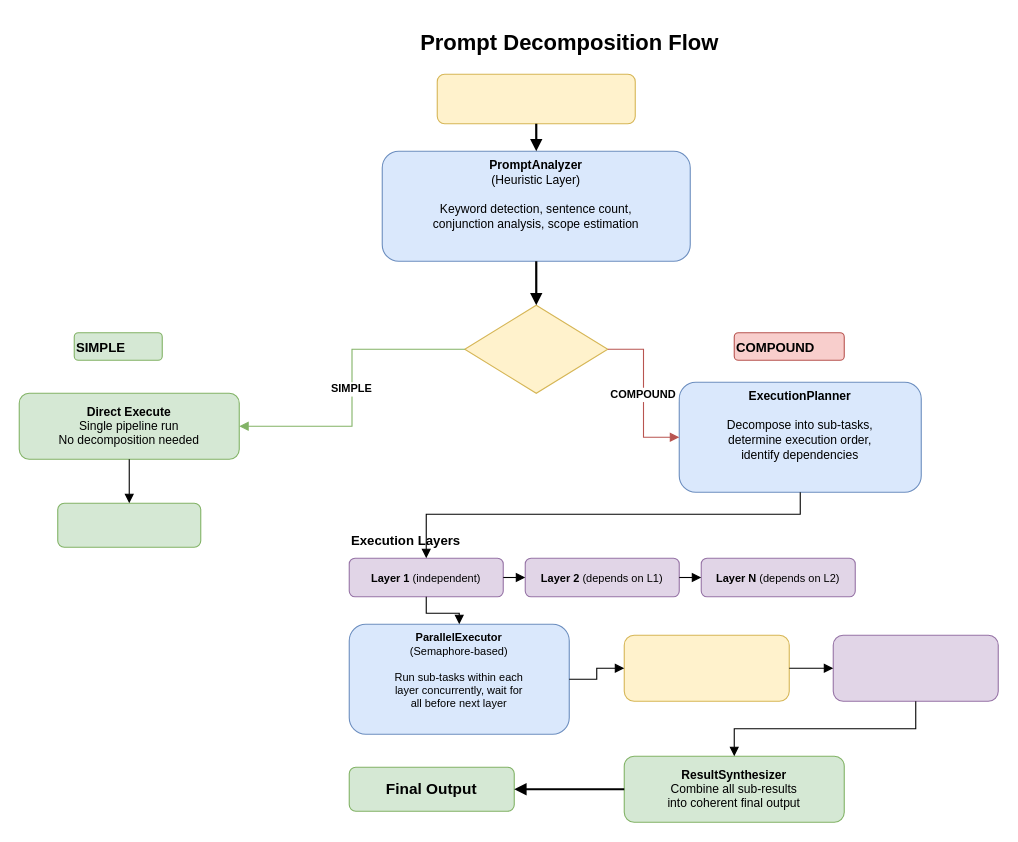
The diagram is 1018 pixels wide and 842 high, and some of its shapes have lost their labels. Here are the shapes that lost their labels. From the top down, the box of each, then its label:
(436, 73, 635, 124): User Prompt
(464, 304, 608, 393): PromptComplexity
(57, 502, 201, 547): Response
(623, 634, 789, 701): Partition Results Group outputs by sub-task origin
(832, 634, 998, 701): Reconciler Resolve conflicts, merge overlaps
